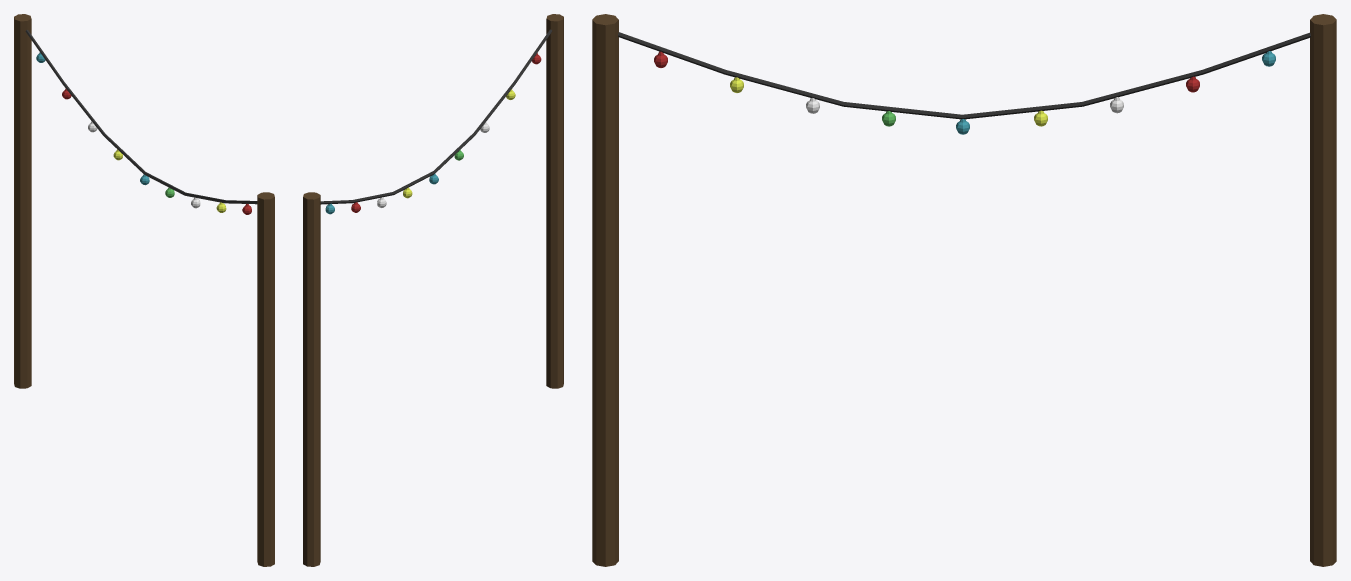
File: Lights 3.fbx
The picture shows the model from 3 angles, left to right: view 1: azimuth 30°, elevation 25°; view 2: azimuth 150°, elevation 25°; view 3: azimuth 270°, elevation 25°; orthographic projection. The views are drawn at different scales.
Visible parts, largest first — view 1: pCylinder4; view 2: pCylinder4; view 3: pCylinder4.
Part boxes in pixels (<box>): pCylinder4: <box>14,14,274,566</box>; pCylinder4: <box>303,14,563,566</box>; pCylinder4: <box>592,14,1336,566</box>.
Size of the model in its own units: 10.79 by 242 by 301.
